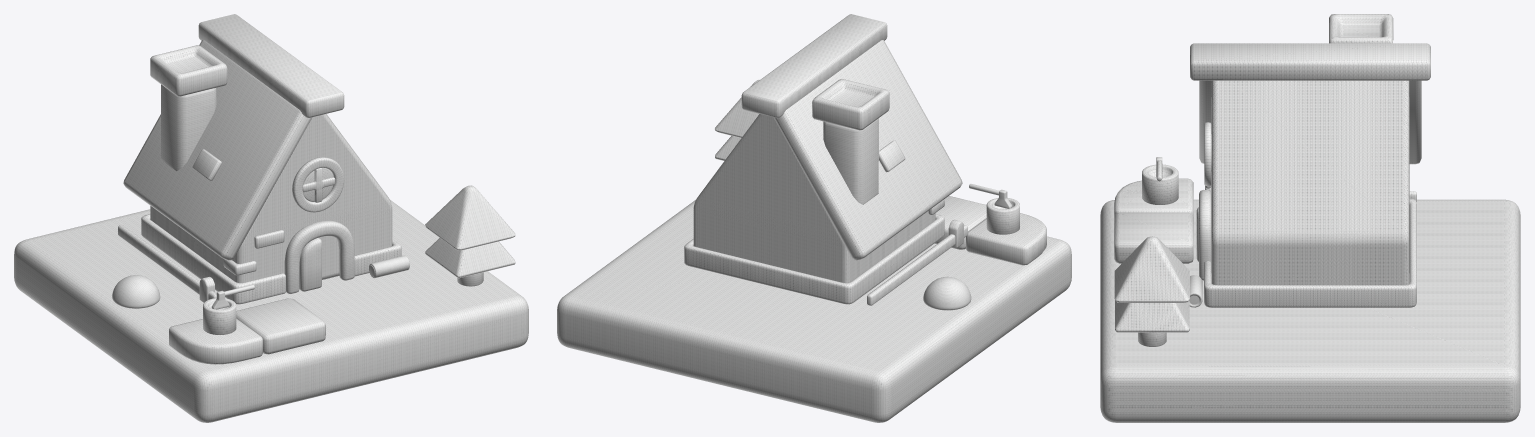
File: A_Basichouse.fbx
3 views of the same model, side by side, from view 1: azimuth 30°, elevation 25°; view 2: azimuth 150°, elevation 25°; view 3: azimuth 270°, elevation 25° (orthographic). The views are drawn at different scales.
Visible parts, largest first — view 1: A_Basichouse, Item_A_Basichouse_2; view 2: A_Basichouse, Item_A_Basichouse_2; view 3: A_Basichouse.
Boxes of the visible parts, x1,y1,x2,y2 form: A_Basichouse: [14, 14, 528, 422]; Item_A_Basichouse_2: [118, 225, 216, 299]; A_Basichouse: [557, 14, 1071, 422]; Item_A_Basichouse_2: [867, 225, 967, 305]; A_Basichouse: [1100, 14, 1520, 422].
Bounding box in the file's own units: 6.21 × 4.68 × 6.21.
